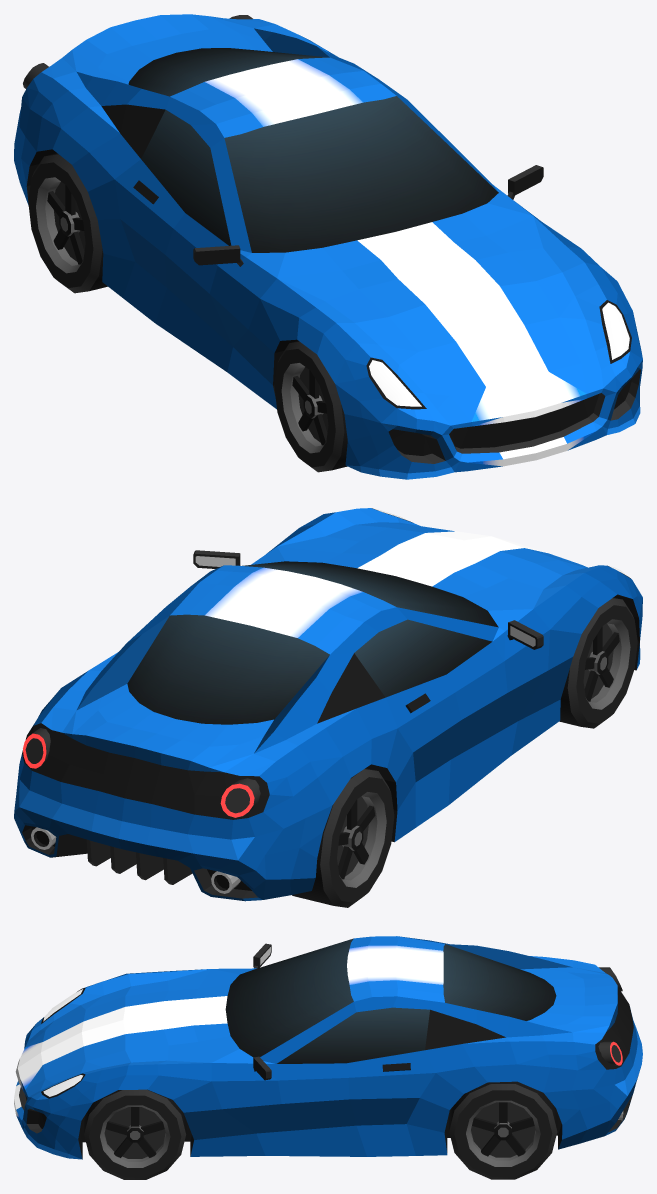
The model's file is ferrari_f12.glb.
3 views of the same model, one above another, from view 1: azimuth 30°, elevation 25°; view 2: azimuth 150°, elevation 25°; view 3: azimuth 270°, elevation 25° (orthographic). The views are drawn at different scales.
Visible parts, largest first — view 1: Body, RRW_mesh, FRW_mesh; view 2: Body, RRW_mesh, FRW_mesh; view 3: Body, RLW_mesh, FLW_mesh.
Part boxes in pixels (box(x1,y1,x2,y2)): Body: box(14, 14, 642, 479); RRW_mesh: box(28, 153, 107, 293); FRW_mesh: box(274, 341, 347, 472); Body: box(14, 508, 642, 901); RRW_mesh: box(292, 768, 394, 907); FRW_mesh: box(559, 597, 637, 728); Body: box(14, 936, 642, 1159); RLW_mesh: box(449, 1081, 557, 1179); FLW_mesh: box(84, 1089, 186, 1179).
Size of the model in its own units: 205 by 123 by 425.
8 materials, 2 textured.
